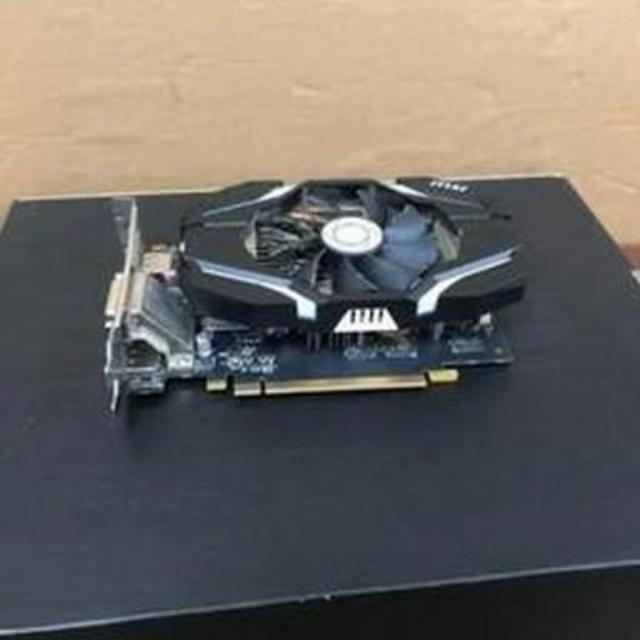GPU: (105, 164, 540, 404)
